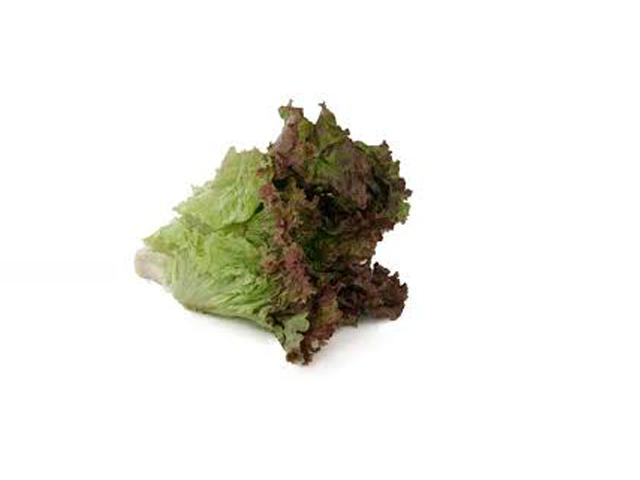lettuce: (127, 90, 445, 388)
